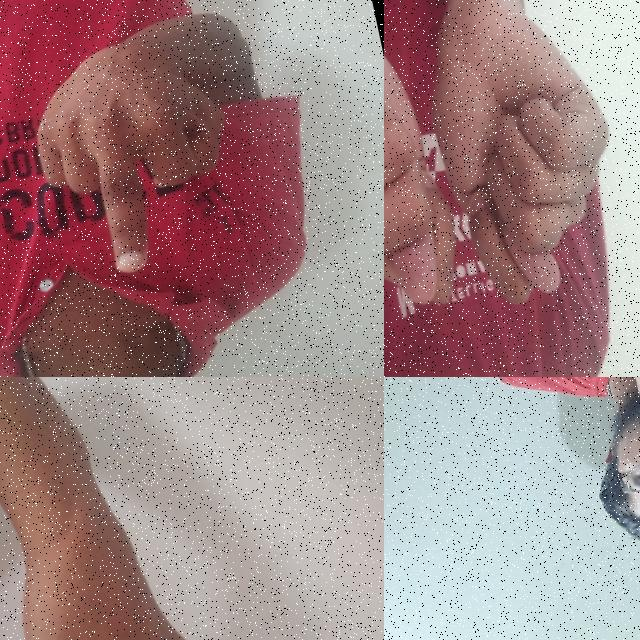Chin Flick: (570, 377, 640, 554)
Corna: (0, 491, 313, 640)
Dulya: (402, 0, 640, 321), (384, 0, 473, 336)
Middle Finger: (8, 3, 260, 289)
